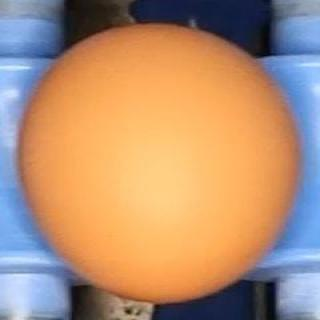Telur: (10, 20, 308, 305)
